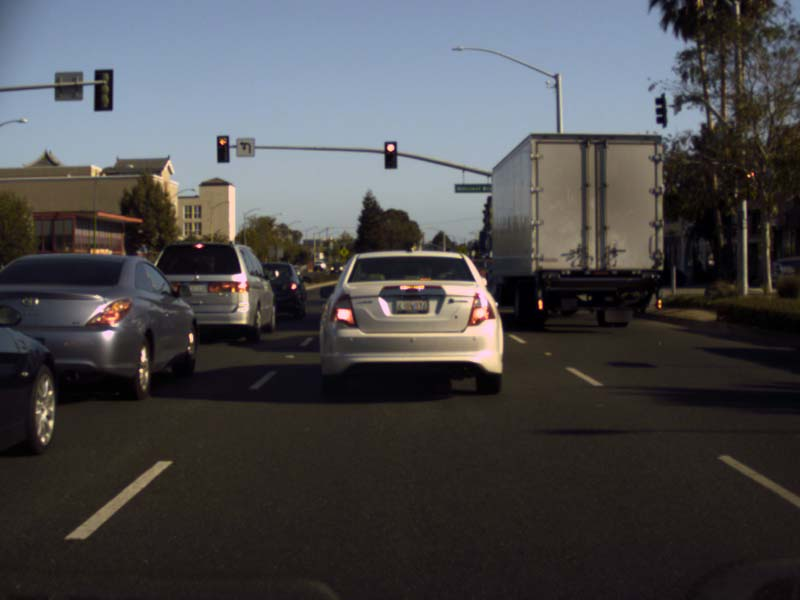Red: (383, 140, 397, 169), (216, 135, 229, 163)
